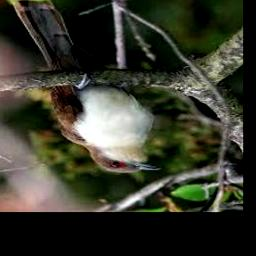Cuckoo: (14, 0, 164, 172)
